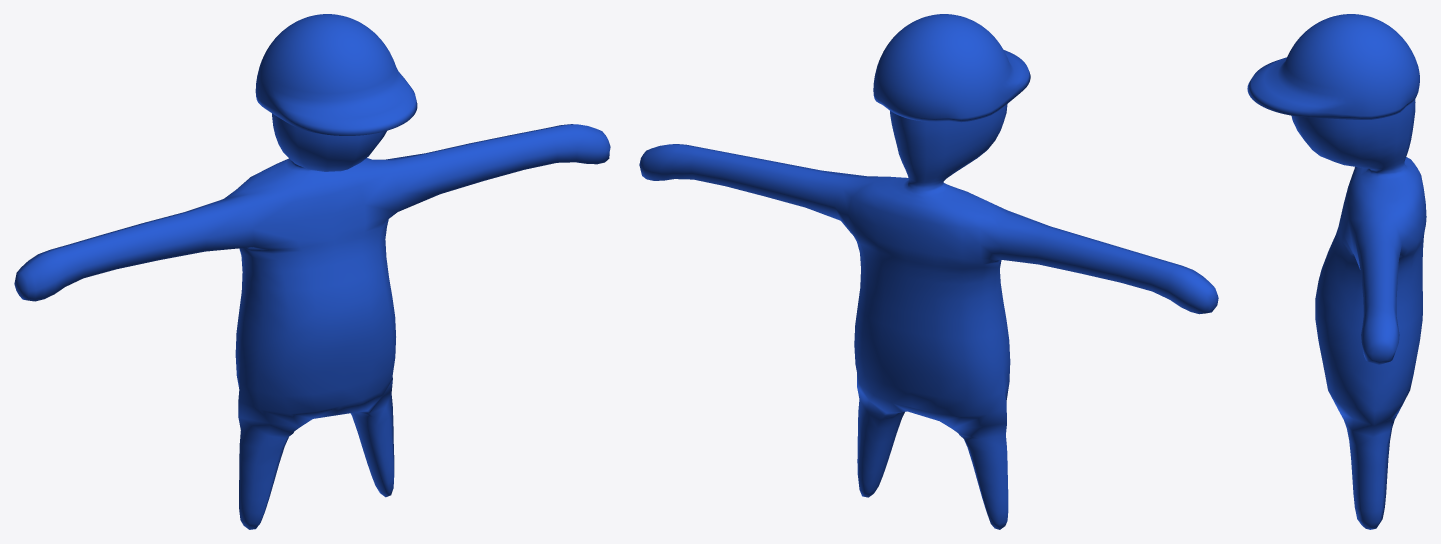
The model's file is human_fall_flat.fbx.
3 renders of one model, left to right at view 1: azimuth 30°, elevation 25°; view 2: azimuth 150°, elevation 25°; view 3: azimuth 270°, elevation 25°, orthographic. The views are drawn at different scales.
Parts seen in each view (by area): view 1: Cube.001; view 2: Cube.001; view 3: Cube.001.
Boxes of the visible parts, x1,y1,x2,y2 form: Cube.001: (14,14,610,529); Cube.001: (639,14,1218,529); Cube.001: (1247,14,1426,529).
Size of the model in its own units: 93.11 by 338 by 275.
